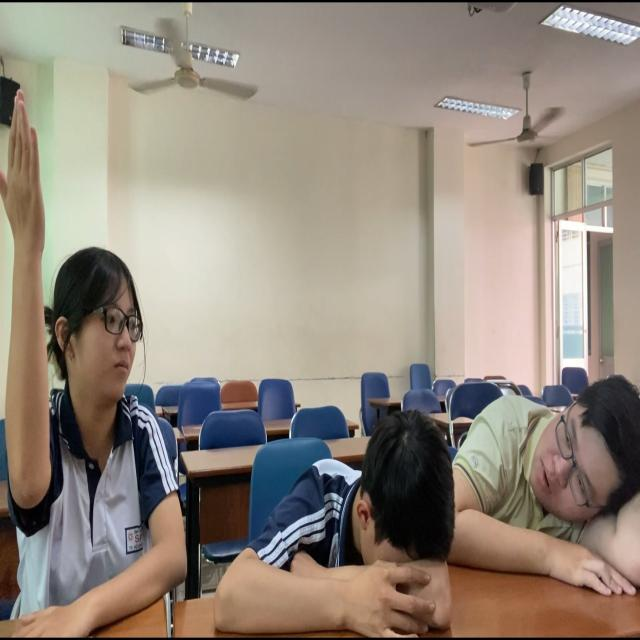raise_hand: (1, 55, 154, 640)
sleep: (235, 408, 466, 634), (448, 383, 640, 605)
